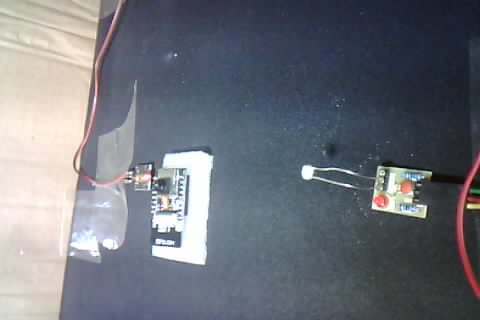esp32: (147, 151, 214, 257)
